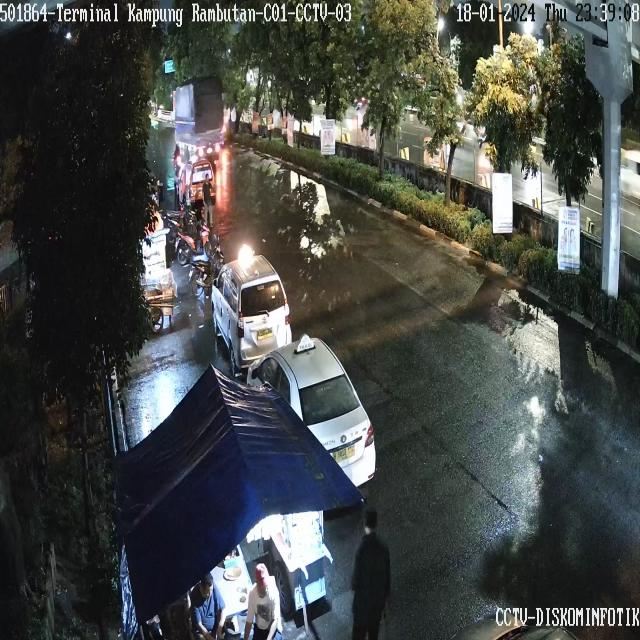Terpal: (92, 406, 305, 539)
